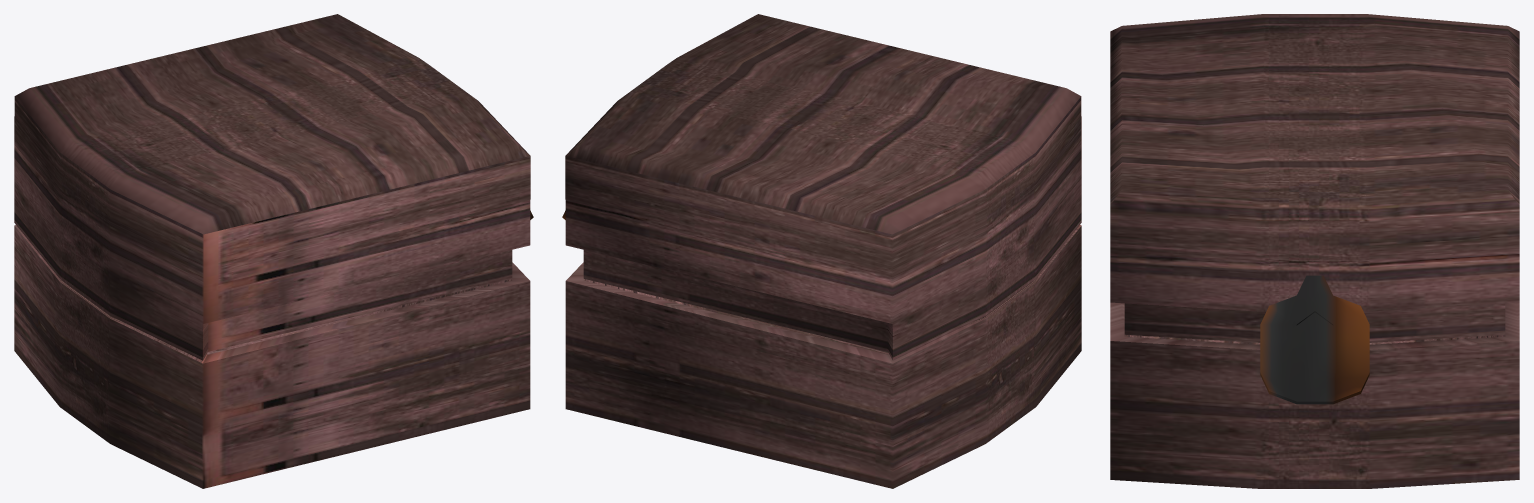
The model's file is Tesouro.fbx.
The picture shows the model from 3 angles, left to right: view 1: azimuth 30°, elevation 25°; view 2: azimuth 150°, elevation 25°; view 3: azimuth 270°, elevation 25°; orthographic projection. The views are drawn at different scales.
Visible parts, largest first — view 1: TesouroTampa, TesouroBase; view 2: TesouroTampa, TesouroBase; view 3: TesouroTampa, TesouroBase, Cadeado.
Boxes of the visible parts, <box> form: TesouroTampa: <box>14,14,530,360</box>; TesouroBase: <box>14,225,530,488</box>; TesouroTampa: <box>565,14,1081,360</box>; TesouroBase: <box>565,225,1081,488</box>; TesouroTampa: <box>1110,14,1519,342</box>; TesouroBase: <box>1110,302,1519,488</box>; Cadeado: <box>1260,275,1369,404</box>.
Bounding box in the file's own units: 92.55 × 70.08 × 54.06.
